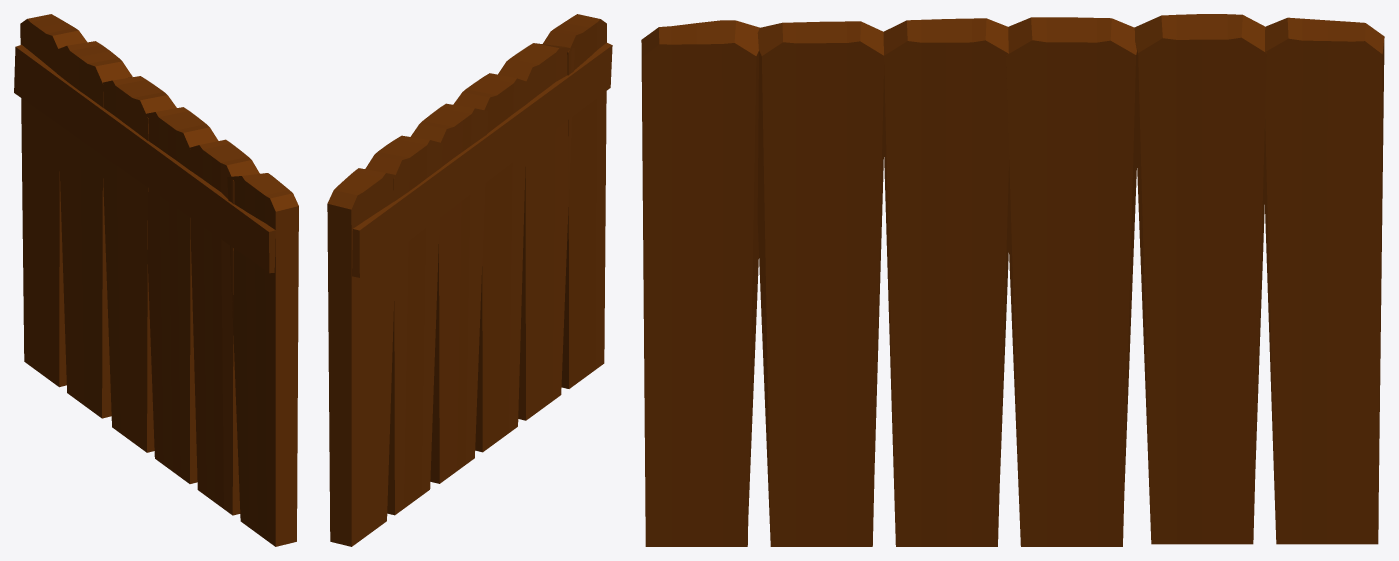
The model's file is Fence1.glb.
3 renders of one model, left to right at view 1: azimuth 30°, elevation 25°; view 2: azimuth 150°, elevation 25°; view 3: azimuth 270°, elevation 25°, orthographic. The views are drawn at different scales.
Parts seen in each view (by area): view 1: Cube; view 2: Cube; view 3: Cube.
Boxes of the visible parts, x1,y1,x2,y2 form: Cube: [14, 14, 298, 546]; Cube: [327, 14, 612, 546]; Cube: [641, 14, 1384, 546].
Size of the model in its own units: 0.083 by 0.772 by 1.01.
Materials: 1 (1 with a texture image).
